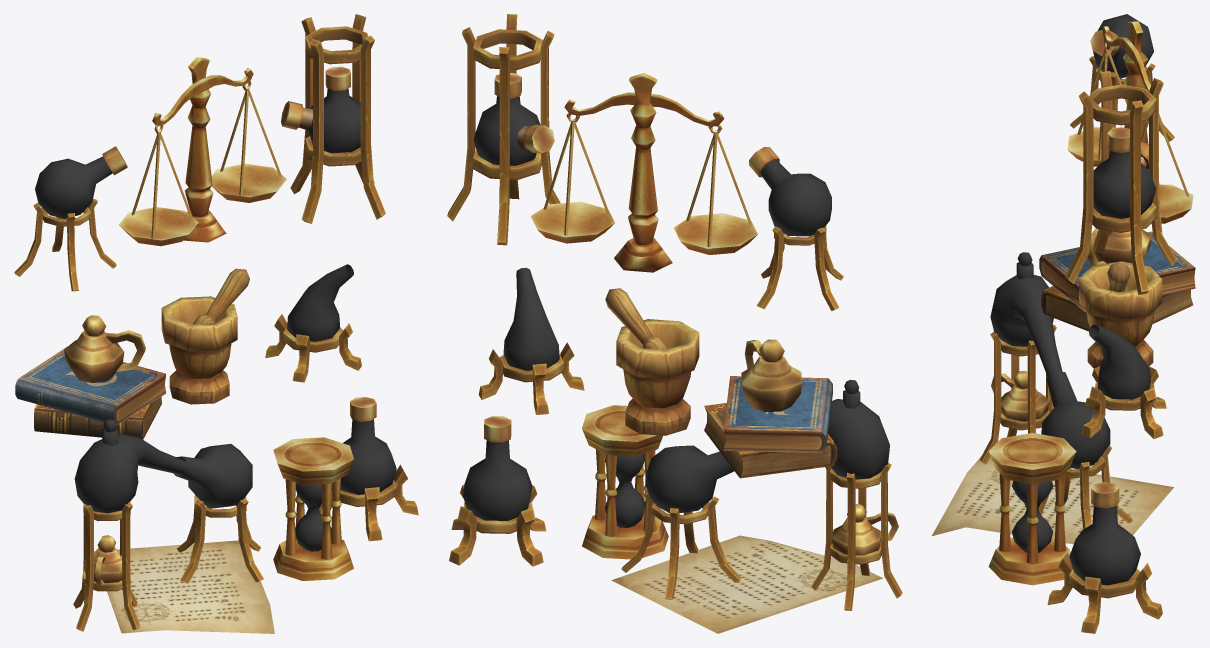
File: Shelf_Preset_01.FBX
3 views of the same model, side by side, from view 1: azimuth 30°, elevation 25°; view 2: azimuth 150°, elevation 25°; view 3: azimuth 270°, elevation 25° (orthographic). The views are drawn at different scales.
Visible parts, largest first — view 1: Shelf_Preset_01; view 2: Shelf_Preset_01; view 3: Shelf_Preset_01.
Part boxes in pixels (x1=…): Shelf_Preset_01: x1=14, y1=14, x2=418, y2=633; Shelf_Preset_01: x1=447, y1=14, x2=902, y2=633; Shelf_Preset_01: x1=932, y1=14, x2=1195, y2=633.
Bounding box in the file's own units: 103 × 59.13 × 131.
